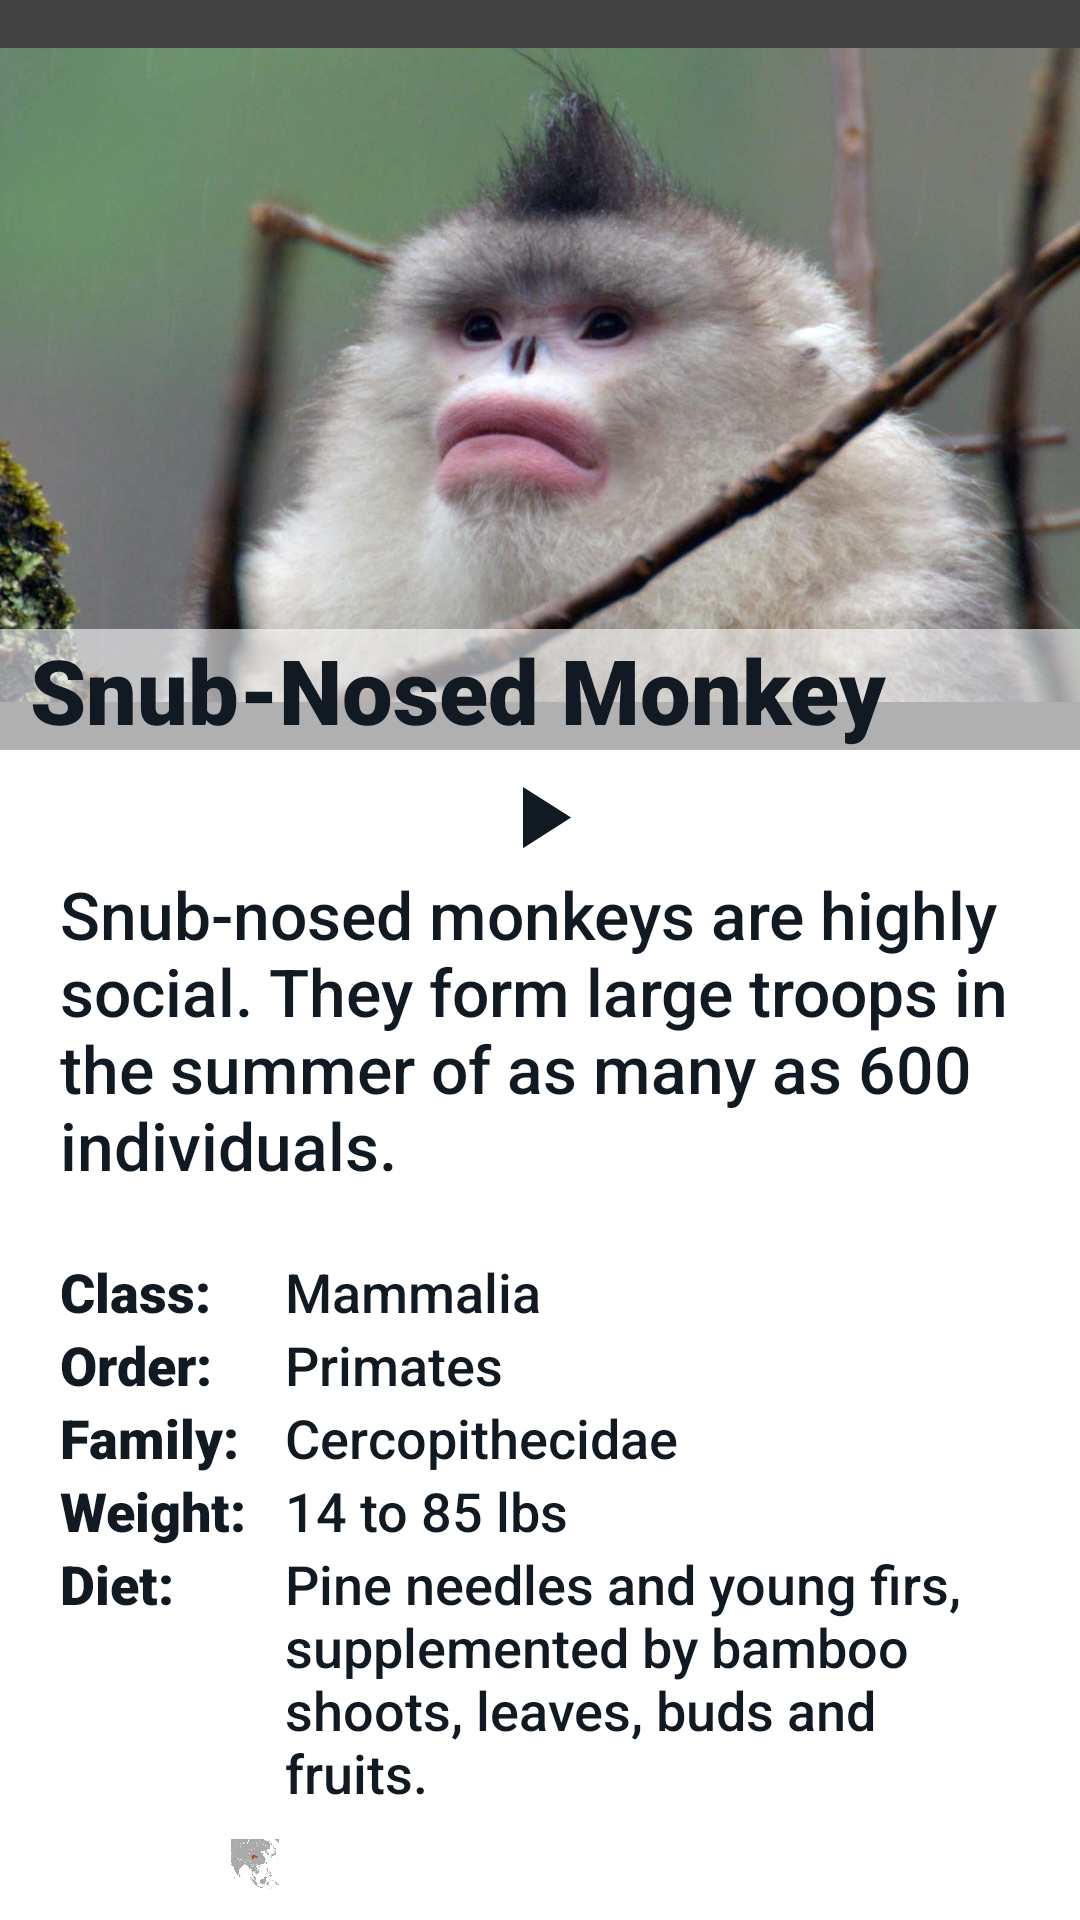

Icon click points for this 1080*1920 phone screenshot, format [x,y]:
Image of play icon for animal sound: [547,817]
Image of snub-nose distribution map: [255,1864]
